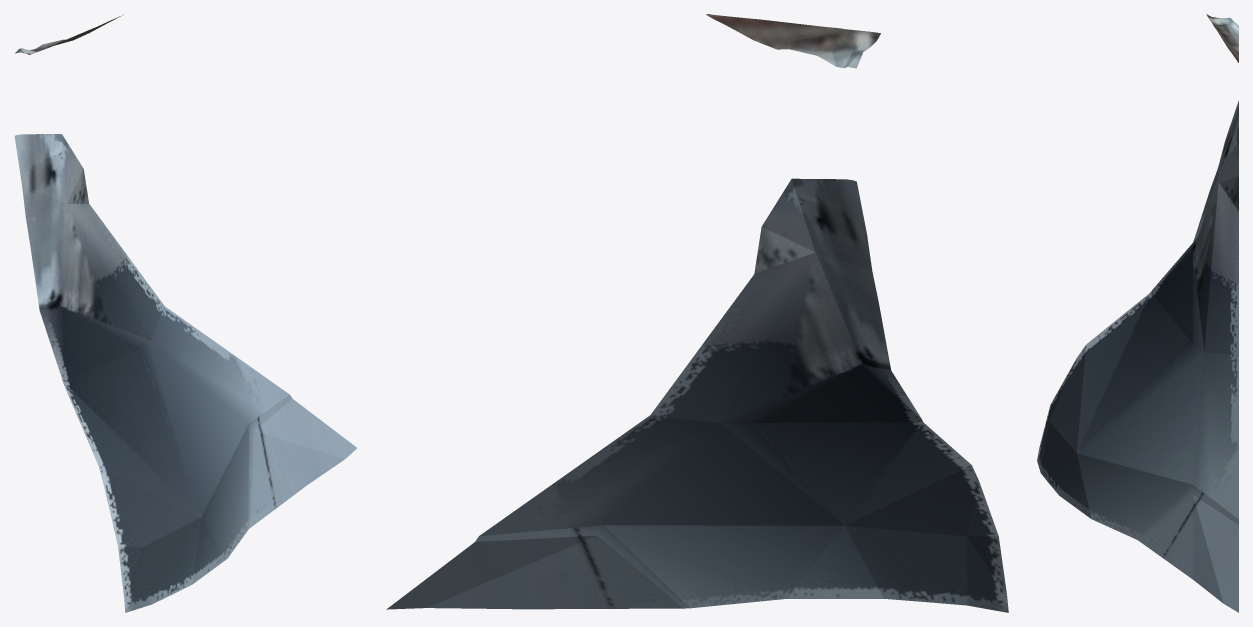
The picture shows the model from 3 angles, left to right: view 1: azimuth 30°, elevation 25°; view 2: azimuth 150°, elevation 25°; view 3: azimuth 270°, elevation 25°; orthographic projection. The views are drawn at different scales.
Size of the model in its own units: 1.22 by 1.67 by 0.6861.
Materials: 1 (1 with a texture image).
